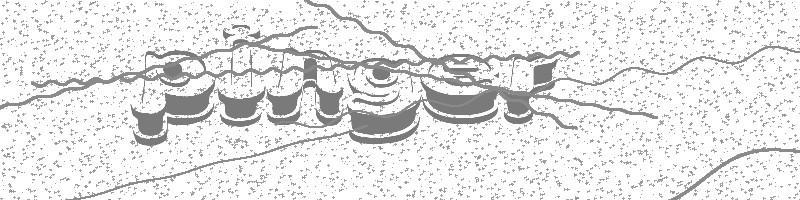e: (419, 52, 500, 126)
g: (347, 52, 422, 145)
i: (211, 21, 264, 127)
n: (265, 40, 345, 129)
p: (121, 46, 218, 148)
r: (503, 49, 558, 126)
